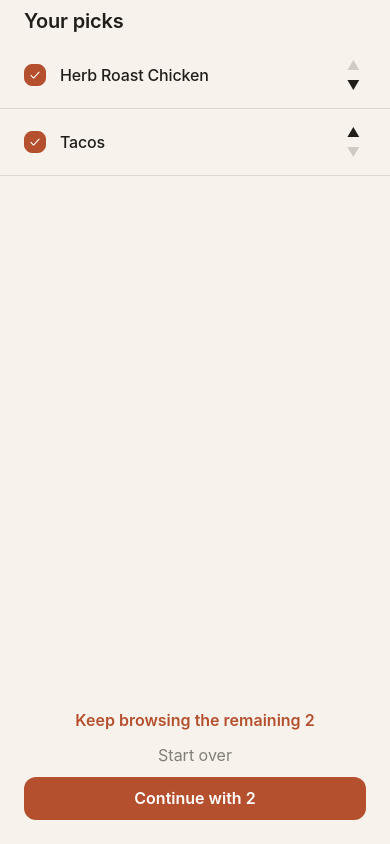
Test: unchecking an item lowers the Continue count and dims the row
expect the text "Herb Roast Chicken" is shown: met, box [60,64,209,84]
Click the checkbox with test id "shortlist-item-r1" at [195, 76], box [0,42,389,109]
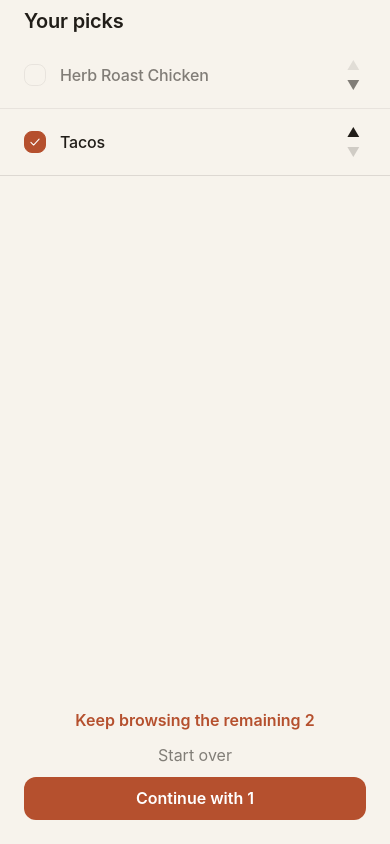
expect the text "Continue with 1" is shown: met, box [136,785,254,812]
